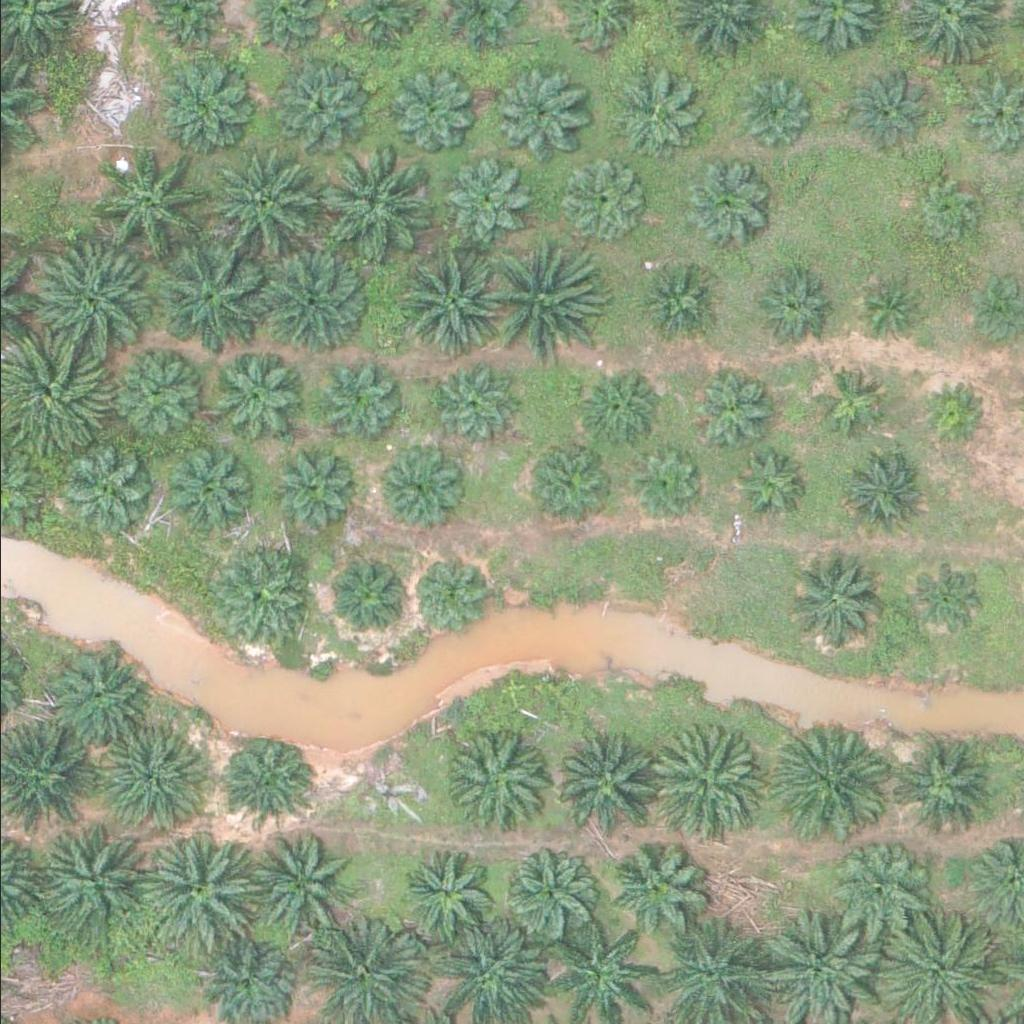Kelapa_Sawit: (29, 823, 143, 936), (93, 721, 207, 834), (775, 727, 889, 840), (256, 238, 370, 351), (652, 723, 765, 836), (480, 245, 593, 358), (159, 242, 272, 355), (542, 730, 656, 842), (31, 249, 145, 361), (253, 834, 366, 946), (139, 838, 252, 950), (387, 243, 500, 355), (93, 150, 206, 262), (202, 150, 315, 262), (314, 146, 427, 258), (498, 840, 599, 940), (402, 844, 503, 944), (446, 733, 547, 833), (782, 548, 883, 648), (213, 546, 314, 646), (152, 438, 253, 538), (259, 55, 360, 155), (891, 735, 992, 835), (45, 646, 146, 746), (606, 837, 706, 937), (107, 348, 207, 448), (203, 352, 303, 452), (154, 54, 254, 154), (829, 840, 929, 940), (688, 365, 777, 453), (900, 557, 989, 645), (745, 263, 833, 351), (629, 251, 717, 339), (522, 435, 610, 523), (312, 358, 400, 446), (486, 67, 574, 155), (385, 67, 473, 155), (553, 157, 641, 245), (840, 66, 928, 154), (836, 451, 924, 539), (225, 734, 313, 821), (574, 364, 662, 451), (426, 357, 514, 444), (369, 446, 457, 533), (323, 553, 411, 640), (53, 447, 141, 534), (274, 442, 362, 529), (682, 159, 770, 246), (440, 156, 528, 243), (609, 70, 697, 157), (731, 74, 807, 149), (621, 447, 697, 522), (408, 556, 484, 631), (848, 270, 924, 345), (811, 362, 886, 437), (906, 176, 981, 251), (727, 450, 802, 525), (915, 377, 990, 452)
